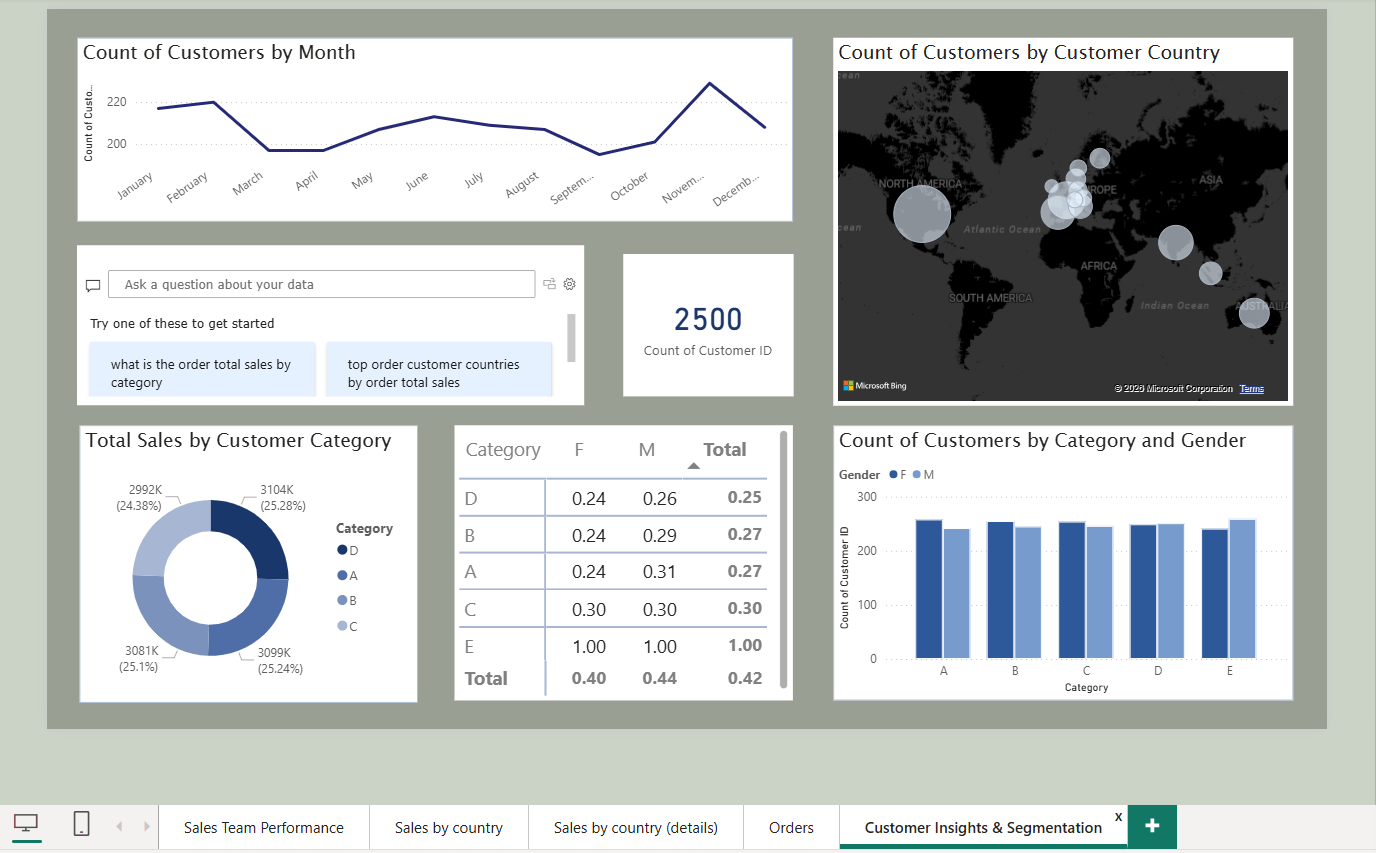

Layout of this report page (visuals, bound fields, positions):
{"tool":"powerbi","page":{"name":"Customer Insights & Segmentation","canvas":[1280,720],"ordinal":4},"visuals":[{"type":"clusteredColumnChart","title":"Count of Customers by Category and Gender","fields":{"Category":["Customers.Category"],"Series":["Customers.Gender"],"Y":["CountNonNull(Customers.Customer ID)"]},"box":[786.2,372.5,460,318.8],"z":0},{"type":"lineChart","title":"Count of Customers by Month","fields":{"Y":["CountNonNull(Orders.Customer ID)"],"Category":["Orders.Order Datetime.Variation.Date Hierarchy.Month"]},"box":[30,28.8,725,315],"z":1000},{"type":"donutChart","title":"Total Sales by Customer Category","fields":{"Category":["Customers.Category"],"Y":["Sum(Orders.Order Value)"]},"box":[32.5,372.5,363.8,321.2],"z":2000},{"type":"pivotTable","fields":{"Rows":["Customers.Category"],"Values":["Customers.% Customers Did Not Order"],"Columns":["Customers.Gender"]},"box":[786.2,28.8,460,315],"z":3000},{"type":"qnaVisual","box":[431.2,477.5,323.8,213.8],"z":5000},{"type":"card","fields":{"Values":["CountNonNull(Customers.Customer ID)"]},"box":[432.5,372.5,323.8,77.5],"z":6000}]}

Visuals, with their boxes on the page's 1280x720 design canvas (x1, y1, x2, y2). These are canvas units, not pixel positions in the 1376x853 screenshot, which may show the page scaled, cropped or inside an application window:
"Count of Customers by Category and Gender" clusteredColumnChart: 786 372 1246 691
"Count of Customers by Month" lineChart: 30 29 755 344
"Total Sales by Customer Category" donutChart: 32 372 396 694
pivotTable - Customers.Category x Customers.% Customers Did Not Order: 786 29 1246 344
qnaVisual: 431 478 755 691
card - CountNonNull(Customers.Customer ID): 432 372 756 450
